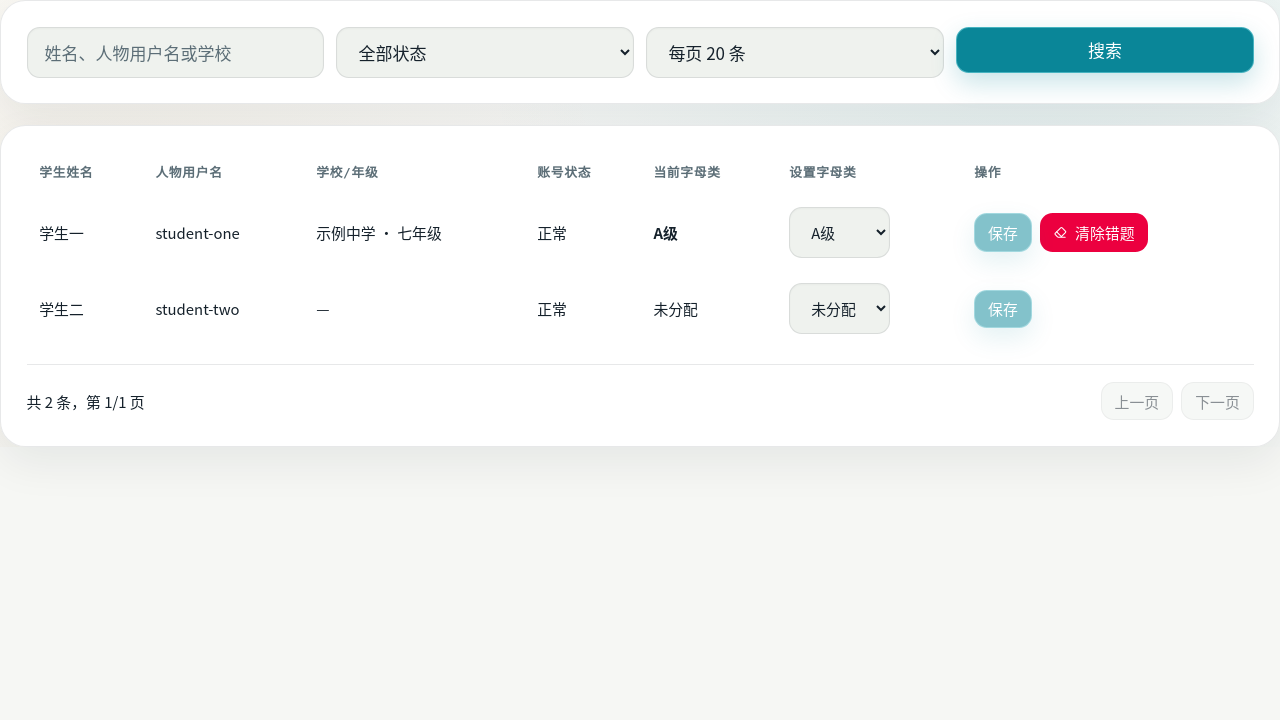
it: TeacherStudentManager › shows server validation errors without losing the row state
Select "C级" in the dropdown named "设置 学生二 的字母类" at {"x": 840, "y": 309}, box [789,284,890,334]
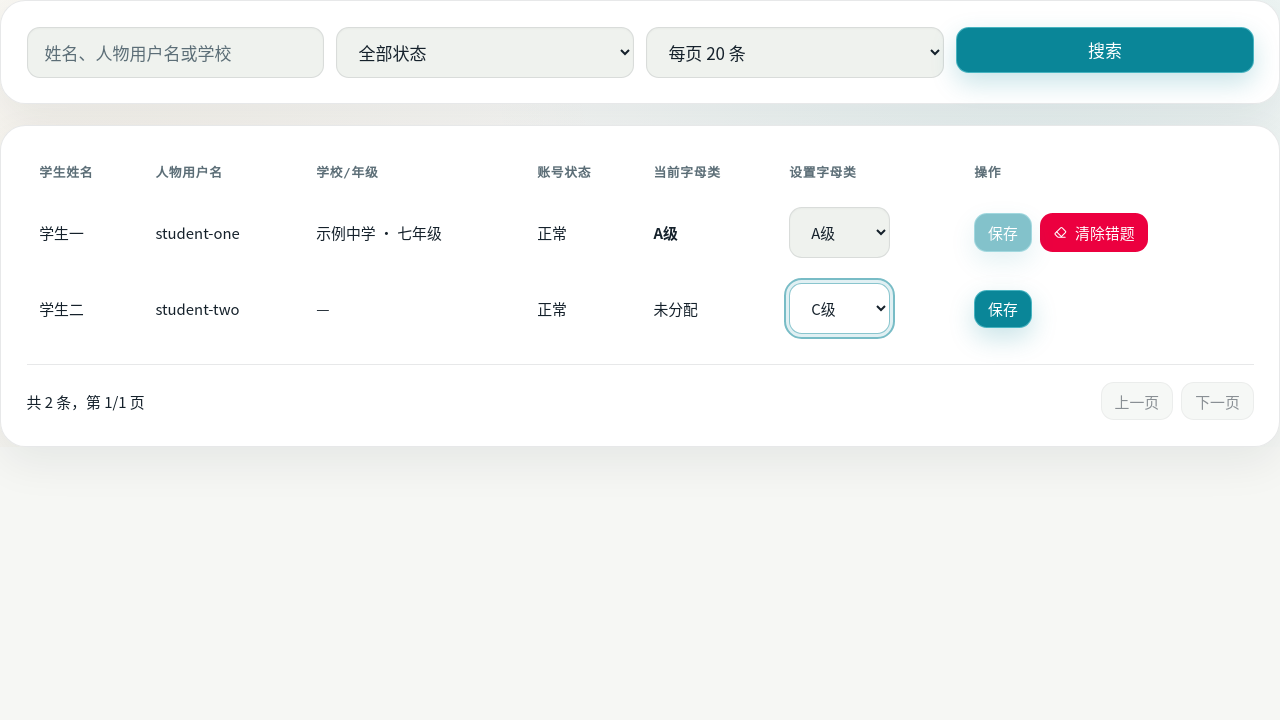
Click the button "保存" in the row of "学生二" at {"x": 1003, "y": 309}, box [974,290,1032,328]
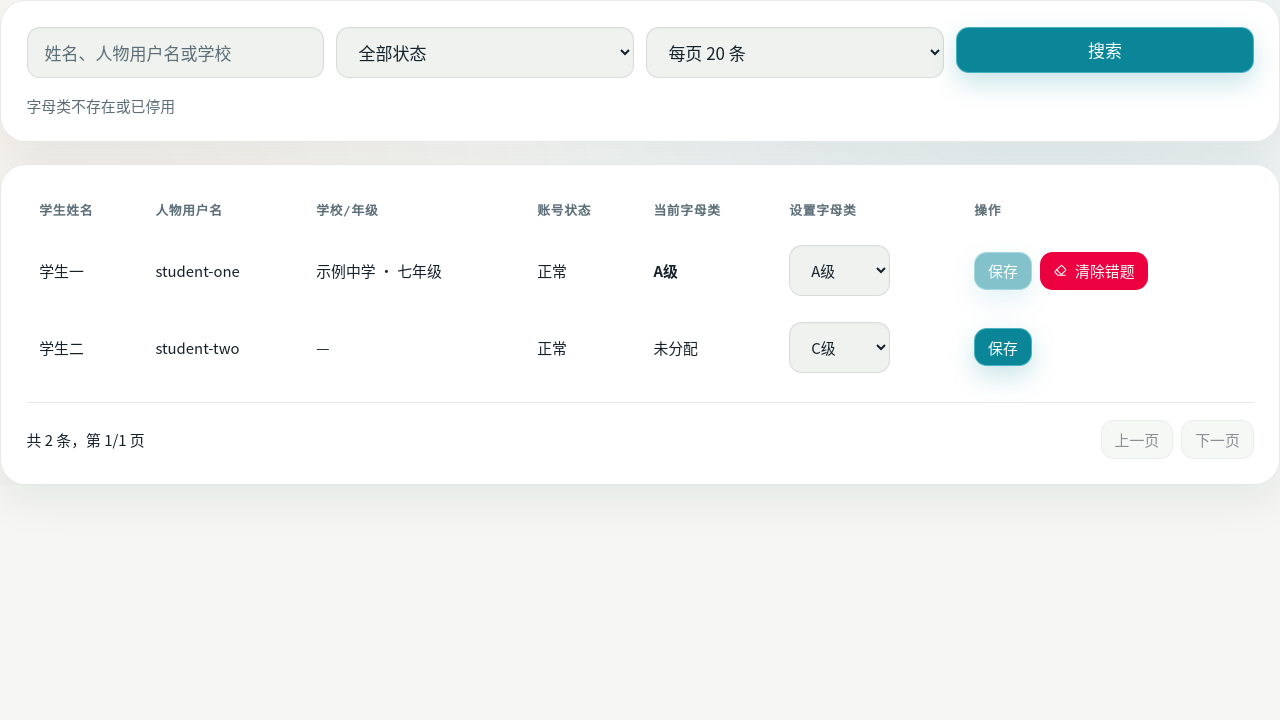
Expected: the text "字母类不存在或已停用" is shown, [26,94,175,116]
